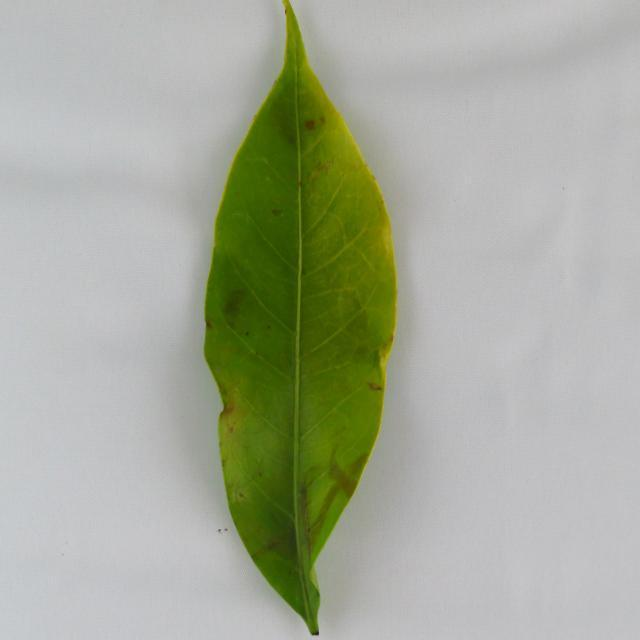DeficienciaNutricional-Nitrogeno: (204, 2, 396, 635)
